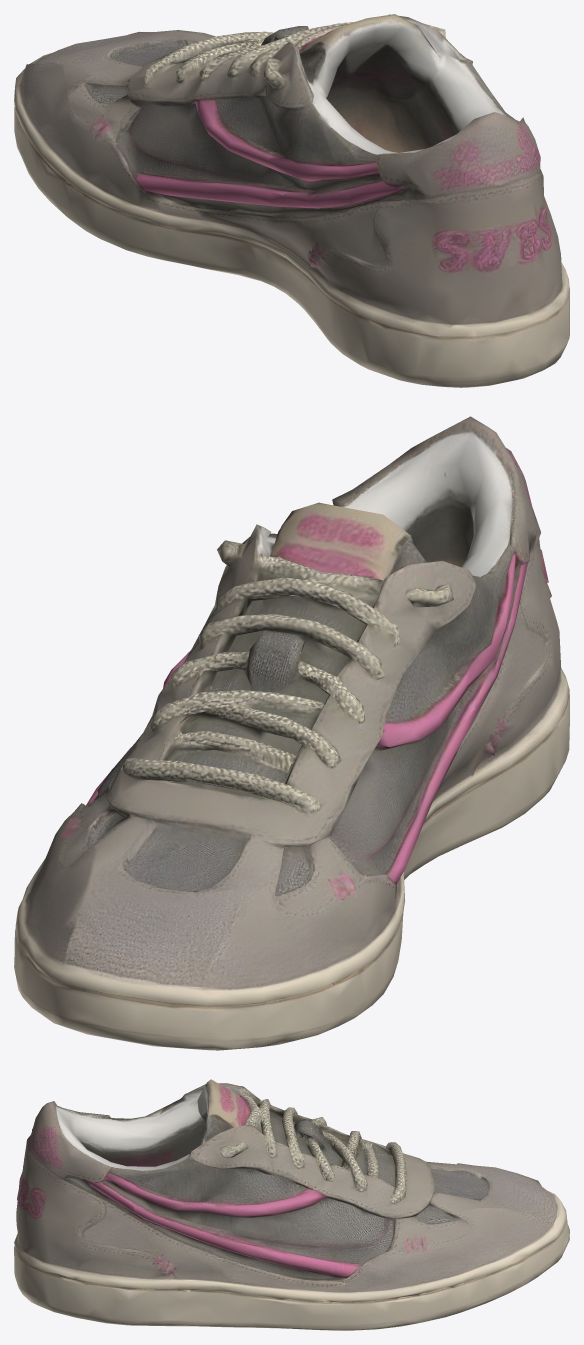
The model's file is gully-number-001-baaz-jasta-green.glb.
The picture shows the model from 3 angles, top to bottom: view 1: azimuth 30°, elevation 25°; view 2: azimuth 150°, elevation 25°; view 3: azimuth 270°, elevation 25°; orthographic projection. The views are drawn at different scales.
Visible parts, largest first — view 1: tripo_node_bb6214f9-27b9-4d64-a16b-df6b9b6288a4; view 2: tripo_node_bb6214f9-27b9-4d64-a16b-df6b9b6288a4; view 3: tripo_node_bb6214f9-27b9-4d64-a16b-df6b9b6288a4.
Boxes of the visible parts, box(x1,y1,x2,y2) form: tripo_node_bb6214f9-27b9-4d64-a16b-df6b9b6288a4: box(14, 14, 569, 387); tripo_node_bb6214f9-27b9-4d64-a16b-df6b9b6288a4: box(14, 416, 569, 1050); tripo_node_bb6214f9-27b9-4d64-a16b-df6b9b6288a4: box(14, 1079, 569, 1330).
Size of the model in its own units: 0.4348 by 0.3923 by 1.
1 material, 1 textured.
